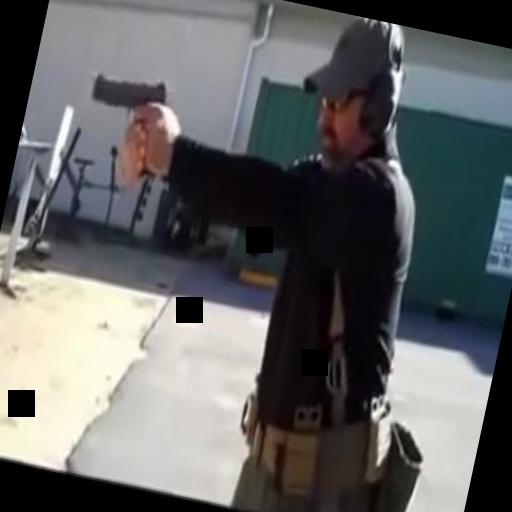Handgun: (73, 66, 174, 180)
